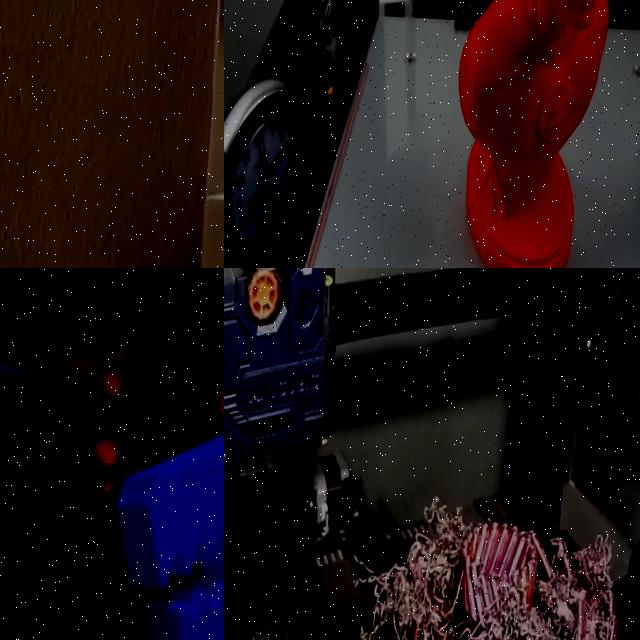spaghetti: (224, 481, 640, 640)
